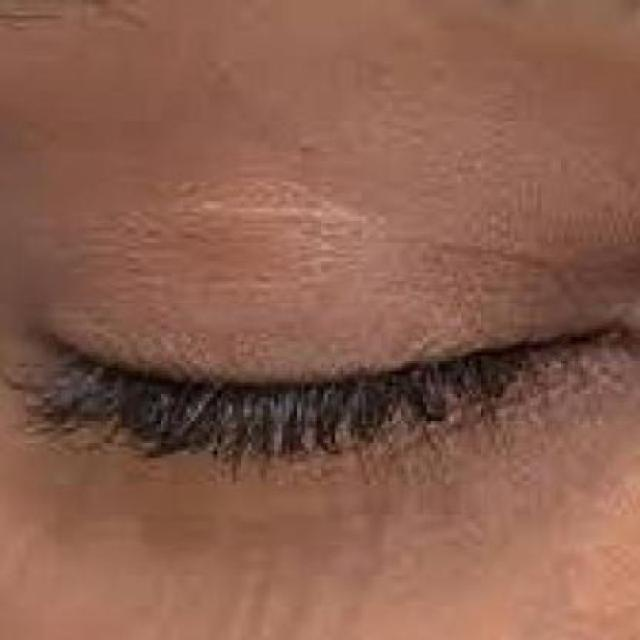drowsy: (3, 106, 637, 636)
